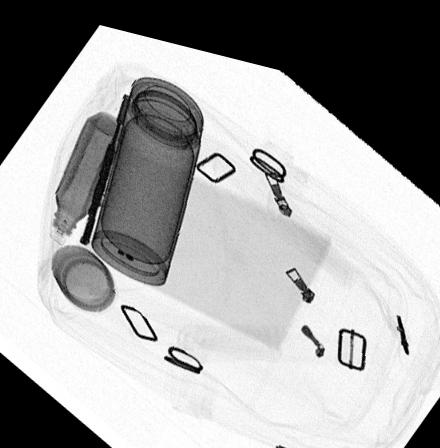Gun: (77, 82, 134, 243)
